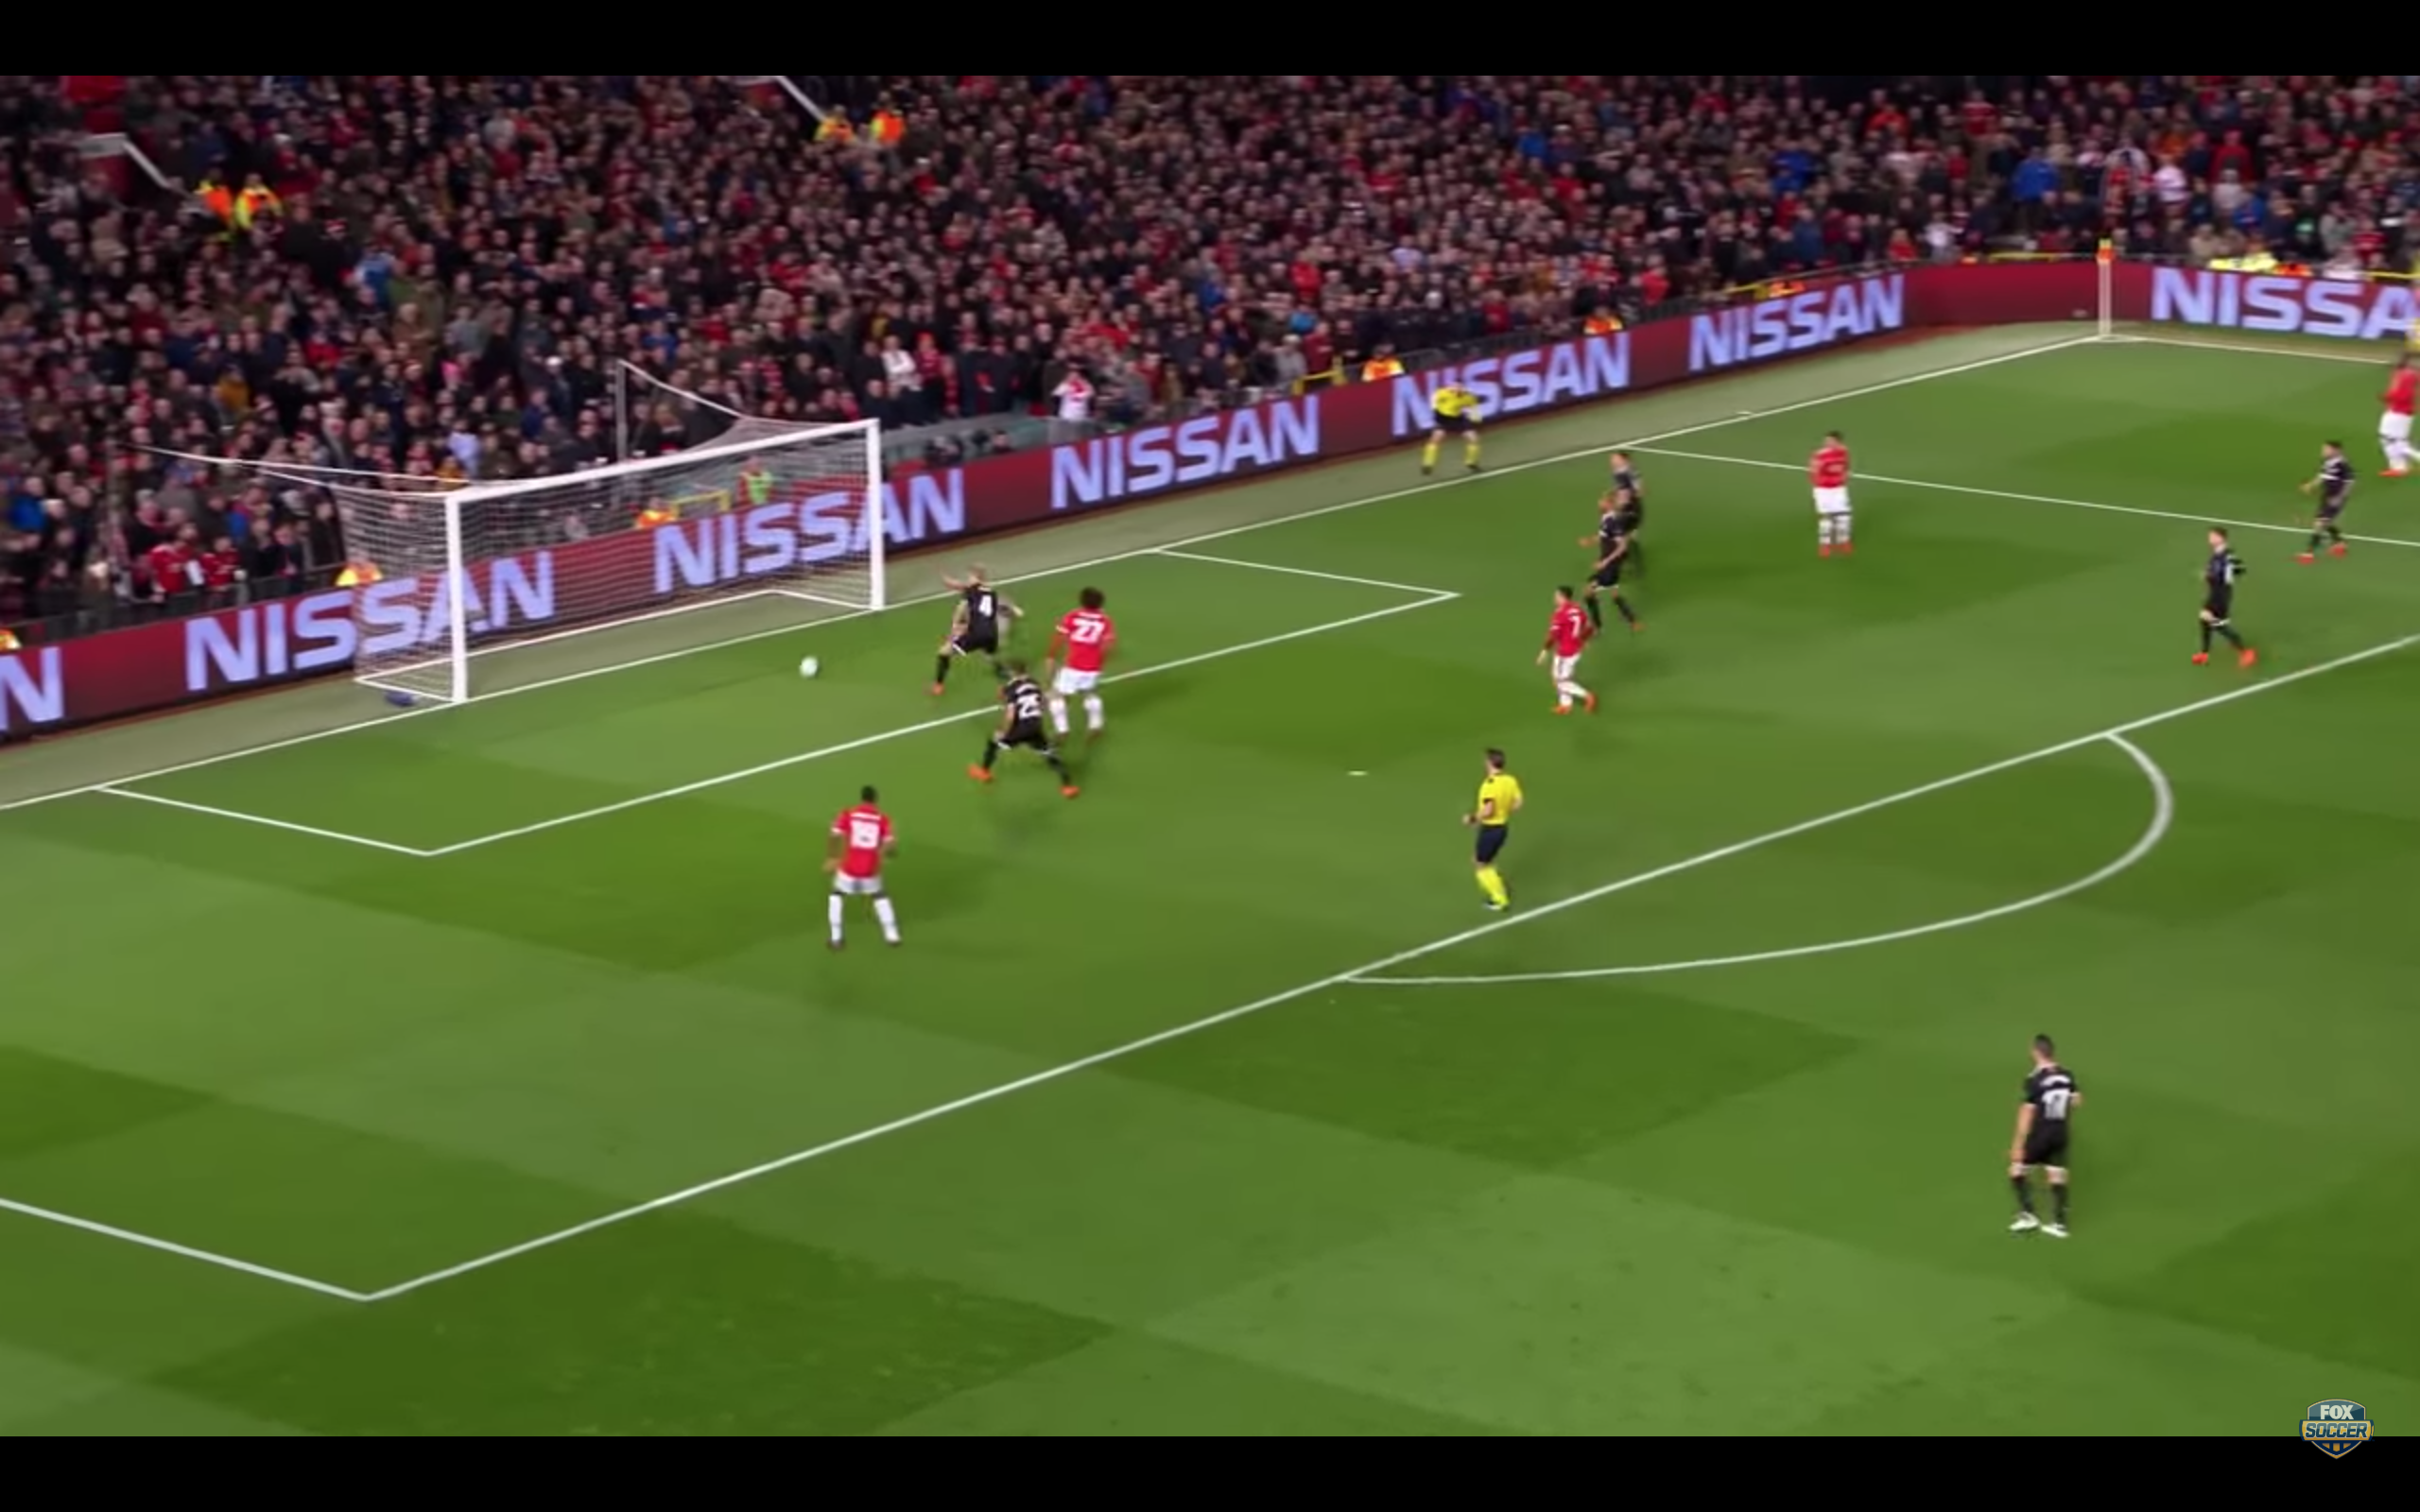referee: (1448, 743, 1544, 918), (1412, 377, 1500, 483)
soccer ball: (794, 646, 828, 683)
soccer player: (1989, 1025, 2094, 1246), (804, 778, 917, 958), (967, 661, 1084, 801), (2181, 517, 2267, 679), (1039, 583, 1124, 744), (1522, 588, 1607, 722), (928, 571, 1014, 697), (1795, 427, 1869, 561), (1579, 494, 1647, 640), (2291, 438, 2359, 568), (2372, 333, 2420, 488), (1603, 440, 1662, 525)
